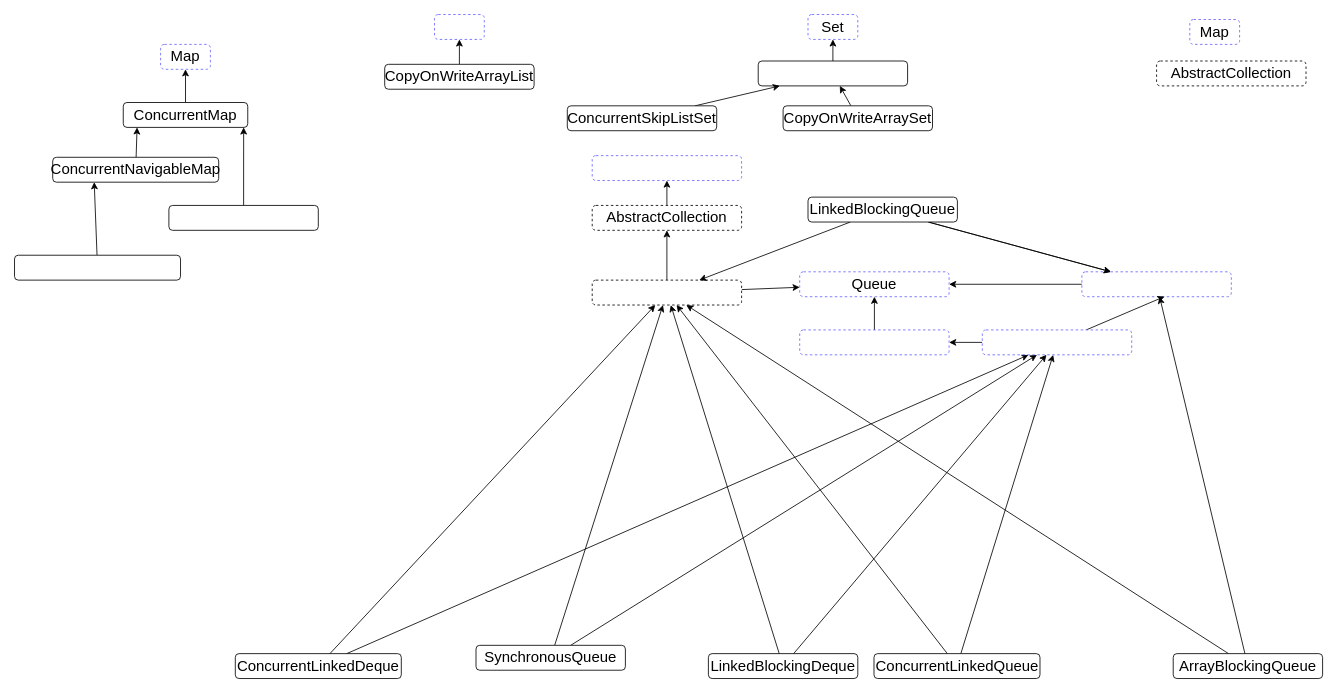
Some shapes in this 1337 by 693 pixel diagram are drawn without their labels. Here are the shapes that lost their labels. From the top down, the centre of each, then its label:
At pixel 459 26: "List".
At pixel 832 73: "AbstractSet".
At pixel 666 168: "Collection".
At pixel 243 217: "ConcurrentHashMap".
At pixel 97 267: "ConcurrentSkipListMap".
At pixel 1156 284: "BlockingQueue".
At pixel 666 292: "AbstractQueue".
At pixel 874 342: "Deque".
At pixel 1056 342: "BlockingDeque".
